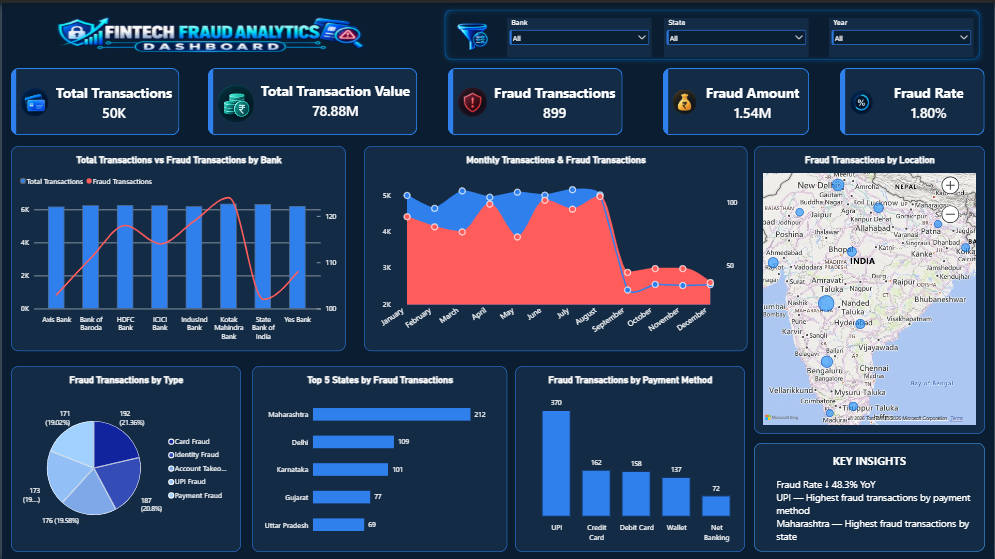

This screenshot's page, from the dashboard's own definition file:
{"tool":"powerbi","page":{"name":"Page 1","canvas":[1920,1080],"ordinal":0},"visuals":[{"type":"cardVisual","fields":{"Data":["fintech_analytics transactions.Total Transactions"]},"box":[17.3,125.8,326,130.1],"z":0},{"type":"cardVisual","fields":{"Data":["fintech_analytics transactions.Total Transaction Value"]},"box":[399,125.8,405,130.1],"z":1000},{"type":"cardVisual","fields":{"Data":["fintech_analytics transactions.Fraud Transactions"]},"box":[863.1,125.8,338,130.1],"z":2000},{"type":"cardVisual","fields":{"Data":["fintech_analytics transactions.Fraud Amount"]},"box":[1279.5,125.8,283,130.1],"z":3000},{"type":"cardVisual","fields":{"Data":["fintech_analytics transactions.Fraud Rate"]},"box":[1622.2,125.8,280,130.1],"z":4000},{"type":"shape","box":[848,4.3,1054,115],"z":5000},{"type":"clusteredColumnChart","title":"Fraud Transactions by Payment Method","fields":{"Category":["fintech_analytics transactions.Payment_Method"],"Y":["Measures Table.Fraud Transactions"]},"box":[993.3,702.7,444.6,360],"z":6000},{"type":"areaChart","title":"Monthly Transactions & Fraud Transactions","fields":{"Category":["DateTable.Month Name"],"Y":["Measures Table.Total Transactions"],"Y2":["Measures Table.Fraud Transactions"]},"box":[700.5,277.6,741.7,396.9],"z":7000},{"type":"pieChart","title":"Fraud Transactions by Type","fields":{"Y":["Measures Table.Fraud Transactions"],"Category":["fintech_analytics transactions.Fraud_Type"]},"box":[17.3,702.7,444.6,360],"z":8000},{"type":"slicer","fields":{"Values":["DateTable.Year"]},"box":[1600.5,28.2,279.8,75.9],"z":9000},{"type":"map","title":"Fraud Transactions by Location","fields":{"Category":["fintech_analytics transactions.State Hierarchy.State","fintech_analytics transactions.State Hierarchy.City","fintech_analytics transactions.State Hierarchy.PIN_Code","fintech_analytics transactions.State Hierarchy.State","fintech_analytics transactions.State Hierarchy.City","fintech_analytics transactions.State Hierarchy.PIN_Code"],"Size":["Measures Table.Fraud Transactions"]},"box":[1455.2,277.6,446.7,557.3],"z":10000},{"type":"lineClusteredColumnComboChart","title":"Total Transactions vs Fraud Transactions by Bank","fields":{"Category":["fintech_analytics transactions.Bank"],"Y":["Measures Table.Total Transactions"],"Y2":["Measures Table.Fraud Transactions"]},"box":[17.3,277.6,648.4,396.9],"z":11000},{"type":"clusteredBarChart","title":"Top 5  States by Fraud Transactions","fields":{"Category":["fintech_analytics transactions.State"],"Y":["Measures Table.Fraud Transactions"]},"box":[483.6,702.7,494.5,360],"z":12000},{"type":"slicer","fields":{"Values":["fintech_analytics transactions.State"]},"box":[1281.7,28.2,279.8,75.9],"z":13000},{"type":"slicer","fields":{"Values":["fintech_analytics transactions.Bank"]},"box":[978.1,28.2,279.8,75.9],"z":14000},{"type":"textbox","box":[1455.2,852.3,446.7,210.4],"z":15000},{"type":"image","box":[101.9,0,598.6,117.1],"z":16000},{"type":"image","box":[878.3,32.5,62.9,65.1],"z":17000}]}

Visuals, with their boxes in screenshot pixels (x1, y1, x2, y2), scaled from the page's 1920x1080 canvas onto the 995x559 screenshot:
cardVisual - fintech_analytics transactions.Total Transactions: 9:65:178:132
cardVisual - fintech_analytics transactions.Total Transaction Value: 207:65:417:132
cardVisual - fintech_analytics transactions.Fraud Transactions: 447:65:622:132
cardVisual - fintech_analytics transactions.Fraud Amount: 663:65:810:132
cardVisual - fintech_analytics transactions.Fraud Rate: 841:65:986:132
shape: 439:2:986:62
"Fraud Transactions by Payment Method" clusteredColumnChart: 515:364:745:550
"Monthly Transactions & Fraud Transactions" areaChart: 363:144:747:349
"Fraud Transactions by Type" pieChart: 9:364:239:550
slicer - DateTable.Year: 829:15:974:54
"Fraud Transactions by Location" map: 754:144:986:432
"Total Transactions vs Fraud Transactions by Bank" lineClusteredColumnComboChart: 9:144:345:349
"Top 5  States by Fraud Transactions" clusteredBarChart: 251:364:507:550
slicer - fintech_analytics transactions.State: 664:15:809:54
slicer - fintech_analytics transactions.Bank: 507:15:652:54
textbox: 754:441:986:550
image: 53:0:363:61
image: 455:17:488:51
